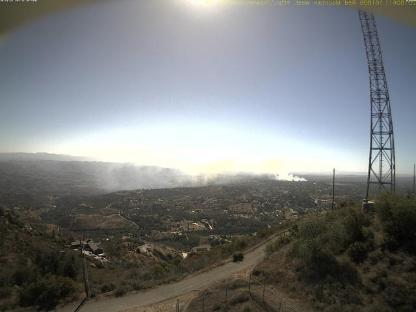smoke: (176, 161, 306, 187)
